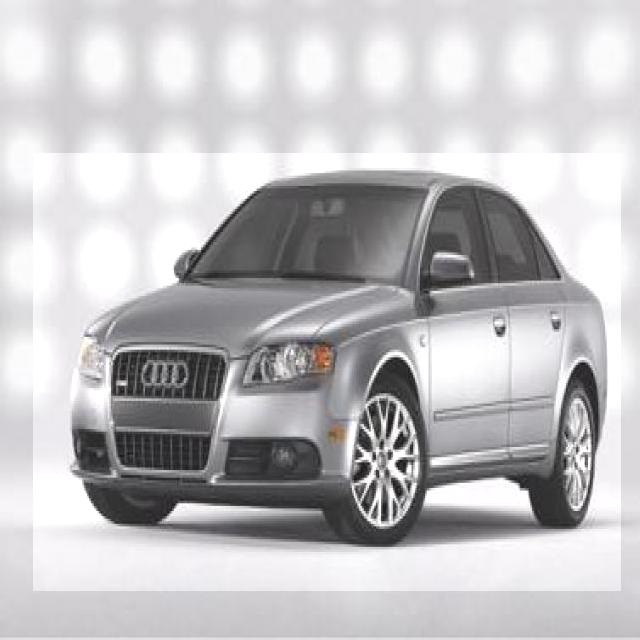Car: (34, 154, 622, 592)
